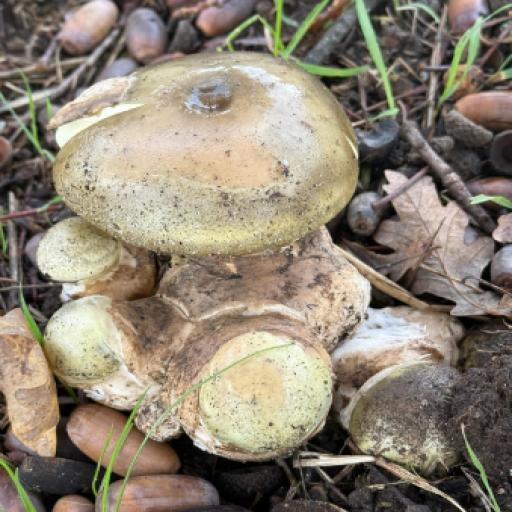mushroom: (58, 55, 355, 250)
